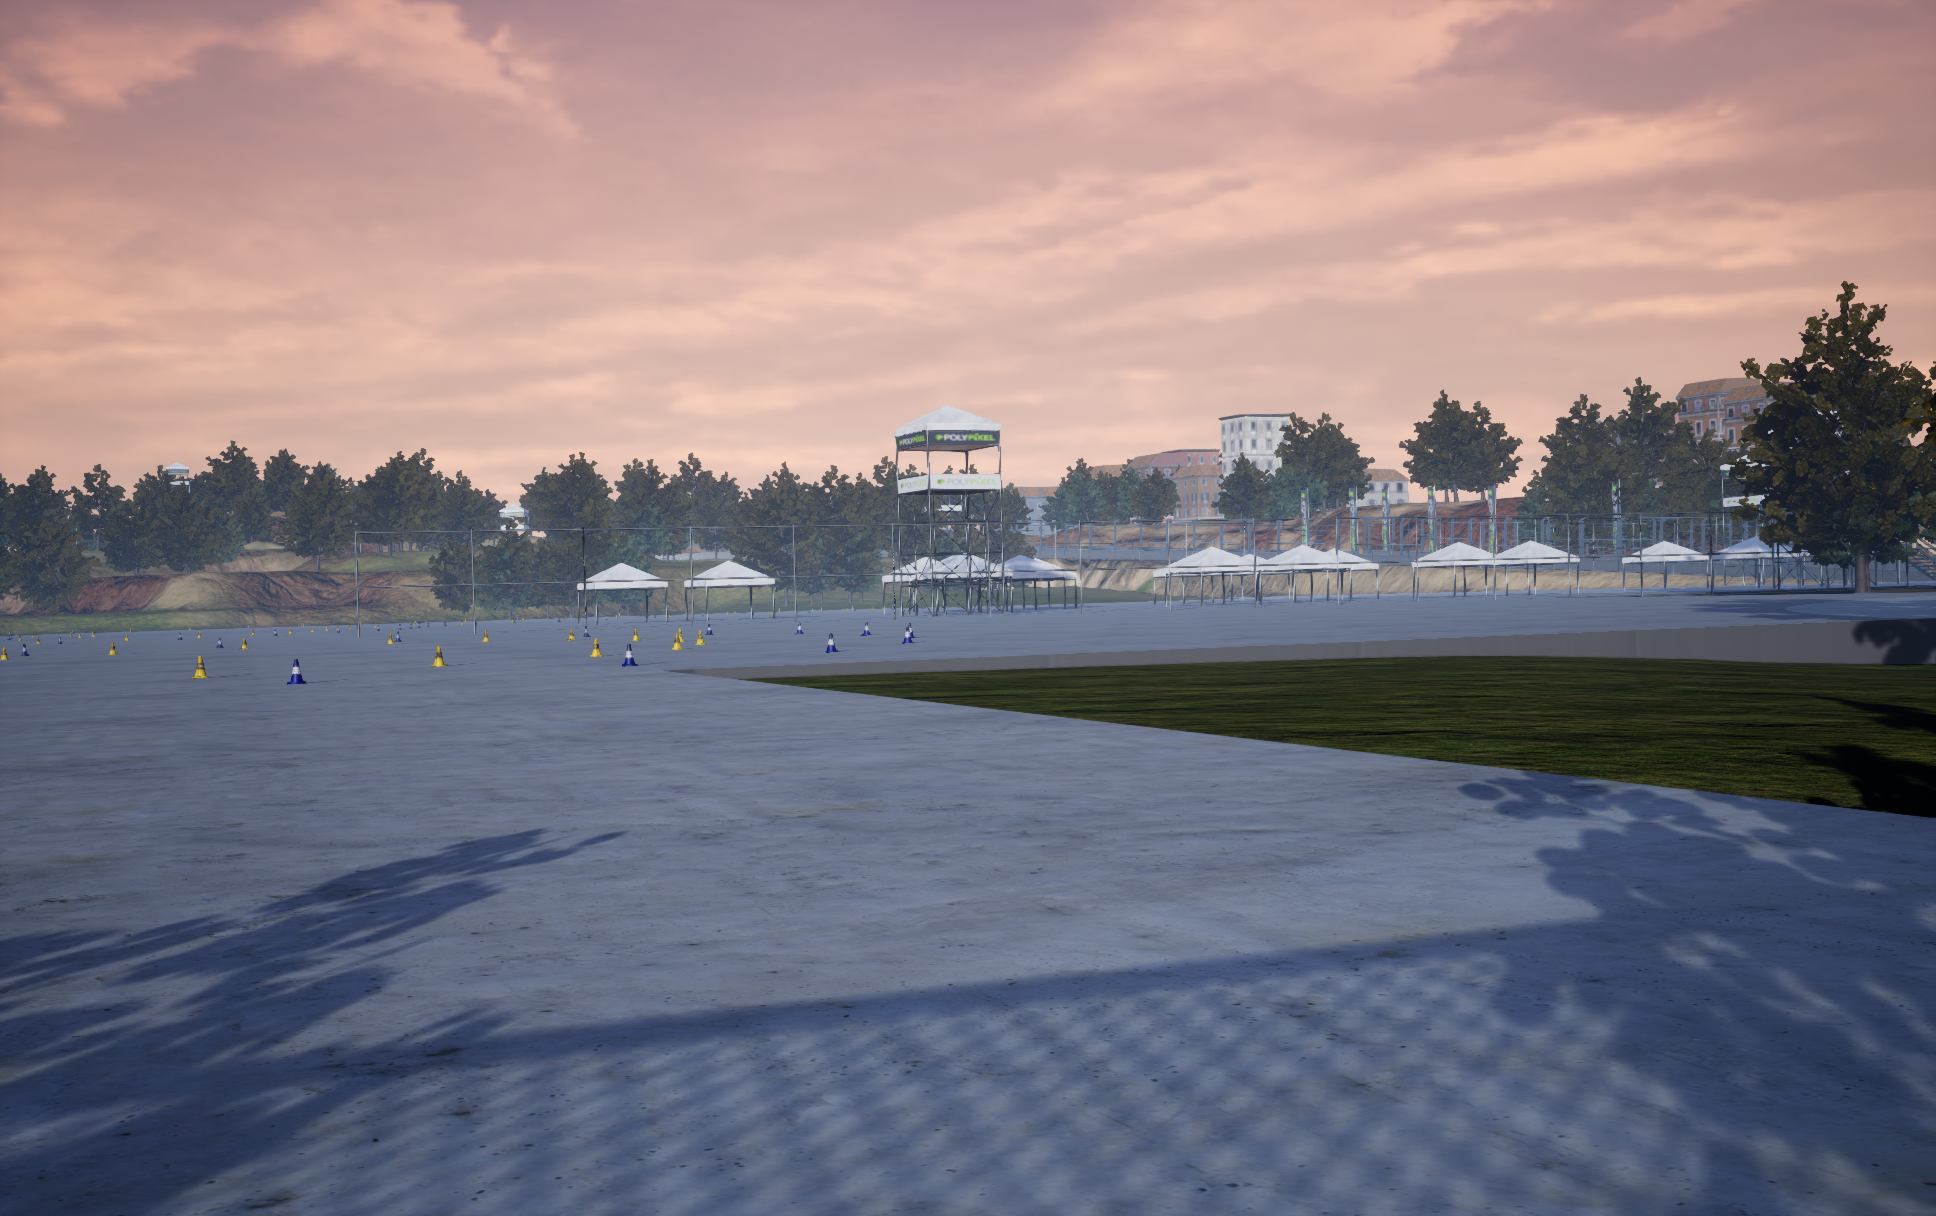blue: (191, 656, 207, 678), (431, 646, 445, 665), (590, 637, 602, 656)
yellow: (287, 658, 305, 684), (622, 644, 637, 665), (825, 633, 838, 651)
